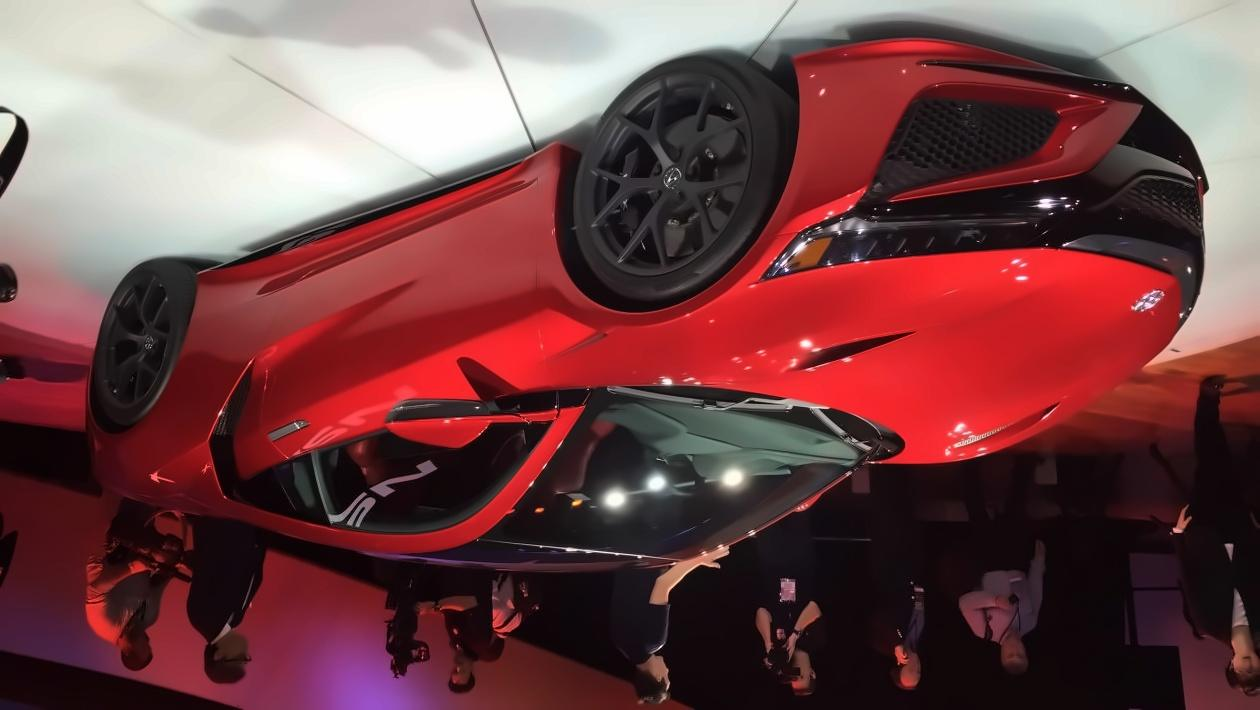Car hood: (744, 240, 1190, 467)
Fender - -F-L-: (530, 143, 836, 401)
Fender - -R-L-: (74, 277, 219, 537)
Front bumper: (770, 33, 1212, 231)
Headlight - -L-: (754, 193, 1058, 296)
Passenger-s door - -F-L-: (259, 169, 555, 558)
Side bumper - -L-: (187, 139, 579, 308)
Side mirror - -L-: (367, 382, 523, 454)
